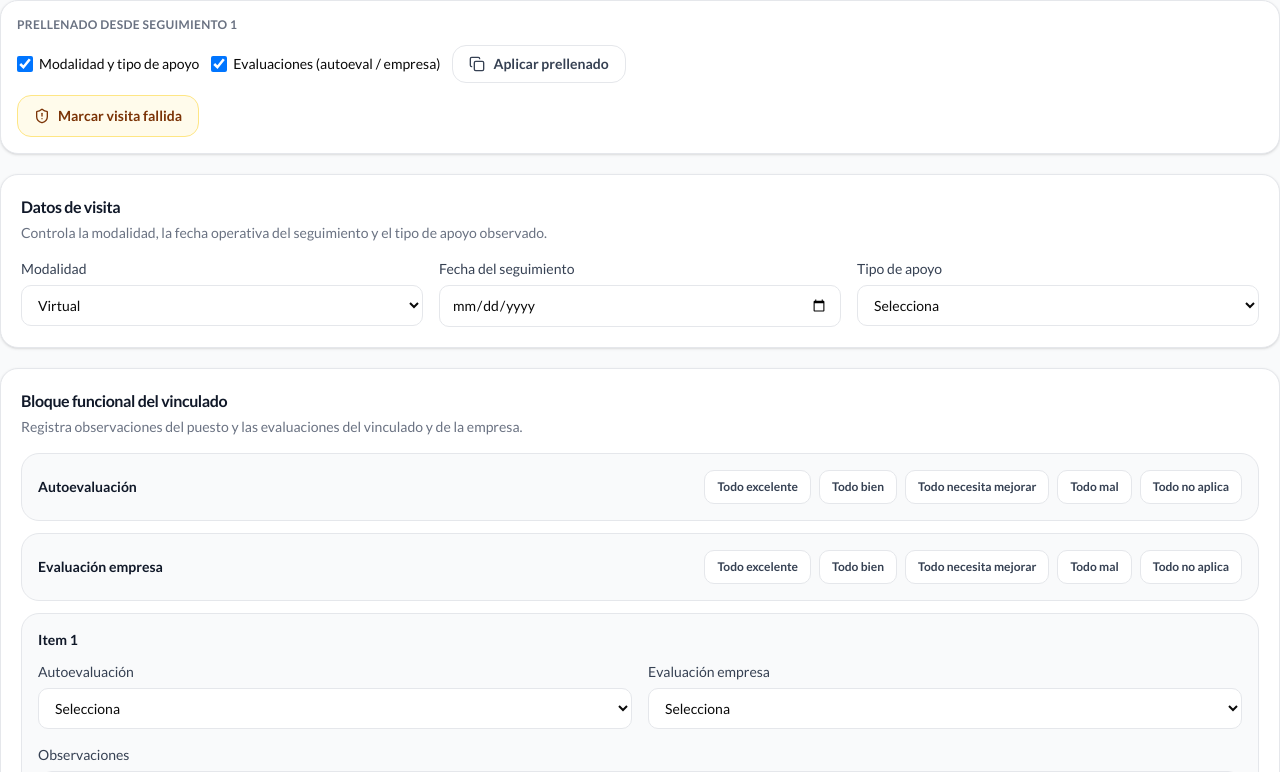
Test case: SeguimientosFollowupStageEditor › does not overwrite existing values when copy-forward is applied (into-empty-only)
Click the button with test id "seguimientos-apply-copy-forward": (539, 64) [452, 45, 626, 83]
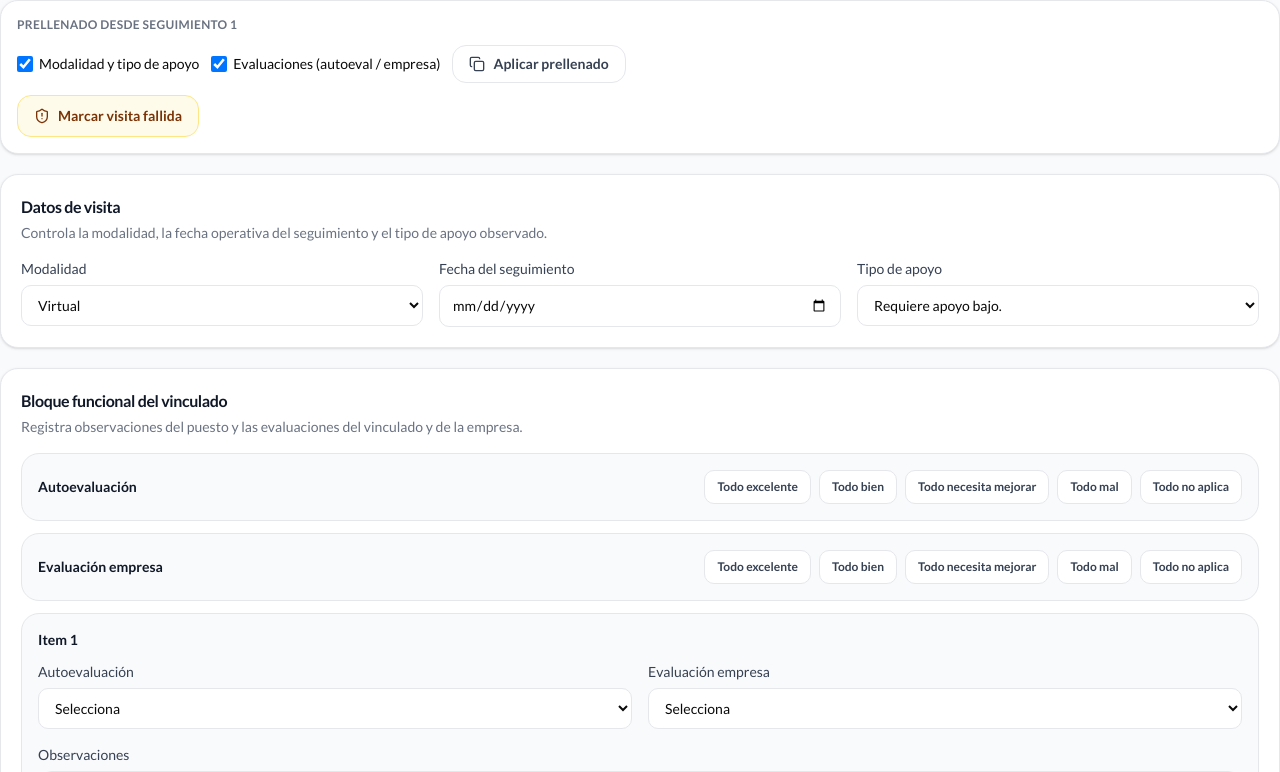
Expected: the dropdown with id "modalidad" shows "Virtual", [21, 285, 423, 326]
Now the dropdown with id "tipo_apoyo" shows "Requiere apoyo bajo.", box [857, 285, 1259, 326]
